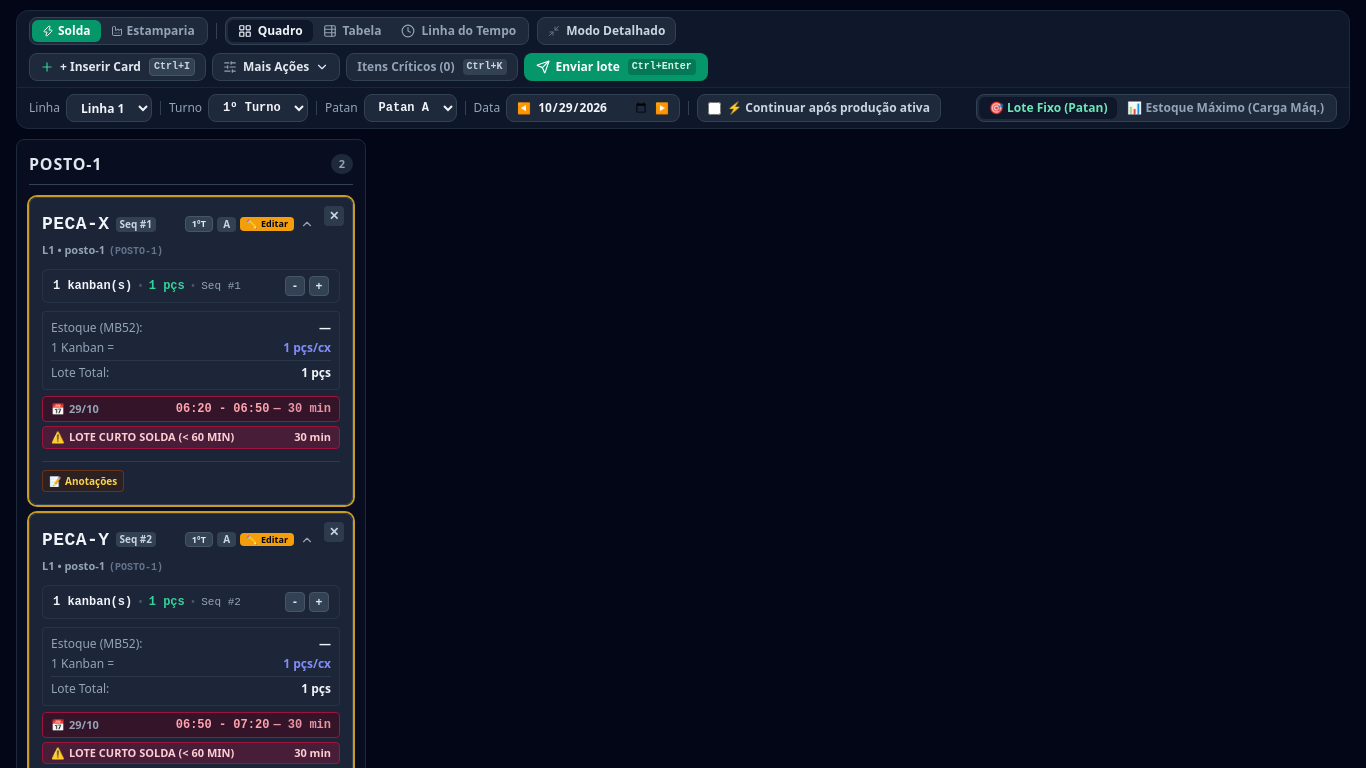
Test: ProgramacaoPatan › allows clicking Montar Padrão to restore removed cards
Expected: the text "PECA-X" is shown, 42,214 -> 110,234
Expected: the text "PECA-Y" is shown, 42,530 -> 110,550
Note: Remove PECA-Y
Click the button with test id "btn-remover-card" at (334, 532), box 324,522 -> 344,542
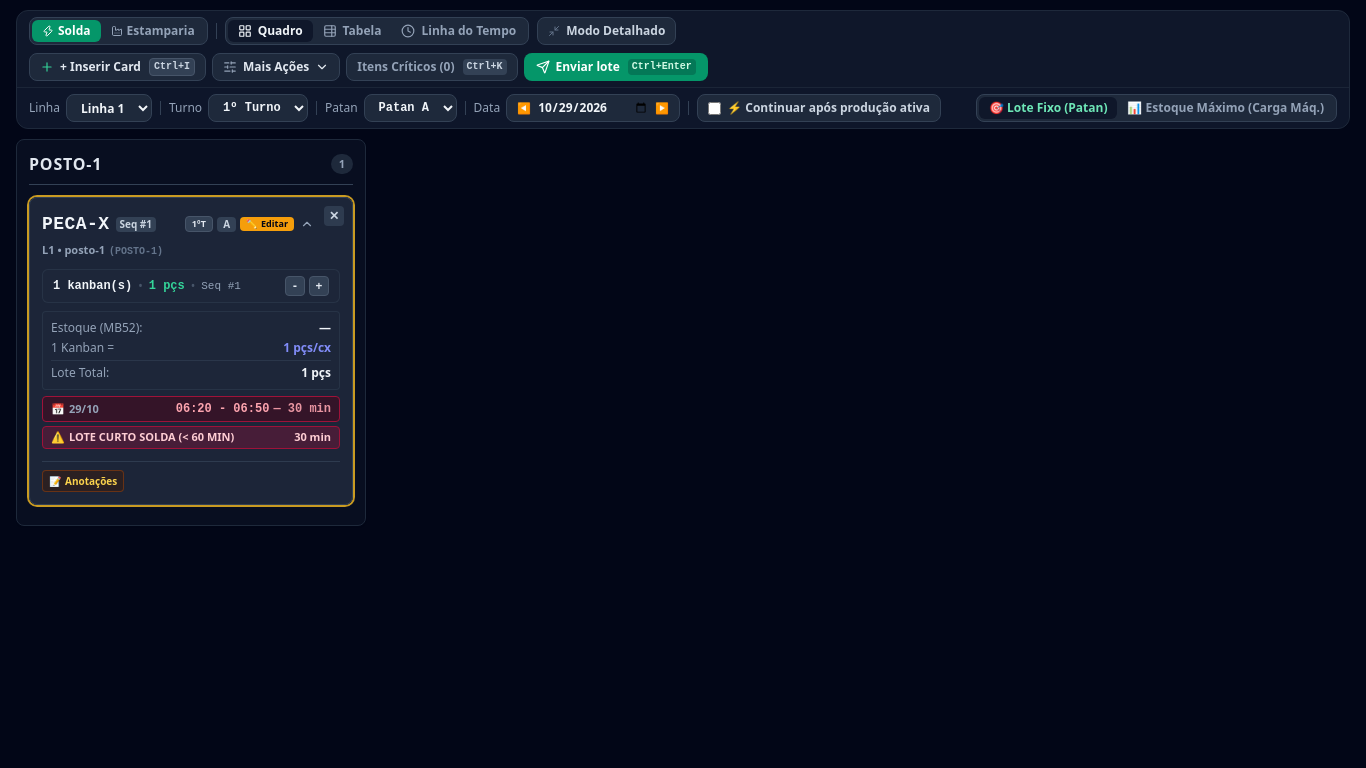
Expected: the button "PECA-Y" is gone
Note: Abre 'Mais Ações' e clica em 'Montar Padrão'
Click the button "Mais Ações" at (276, 67), box 212,53 -> 340,81
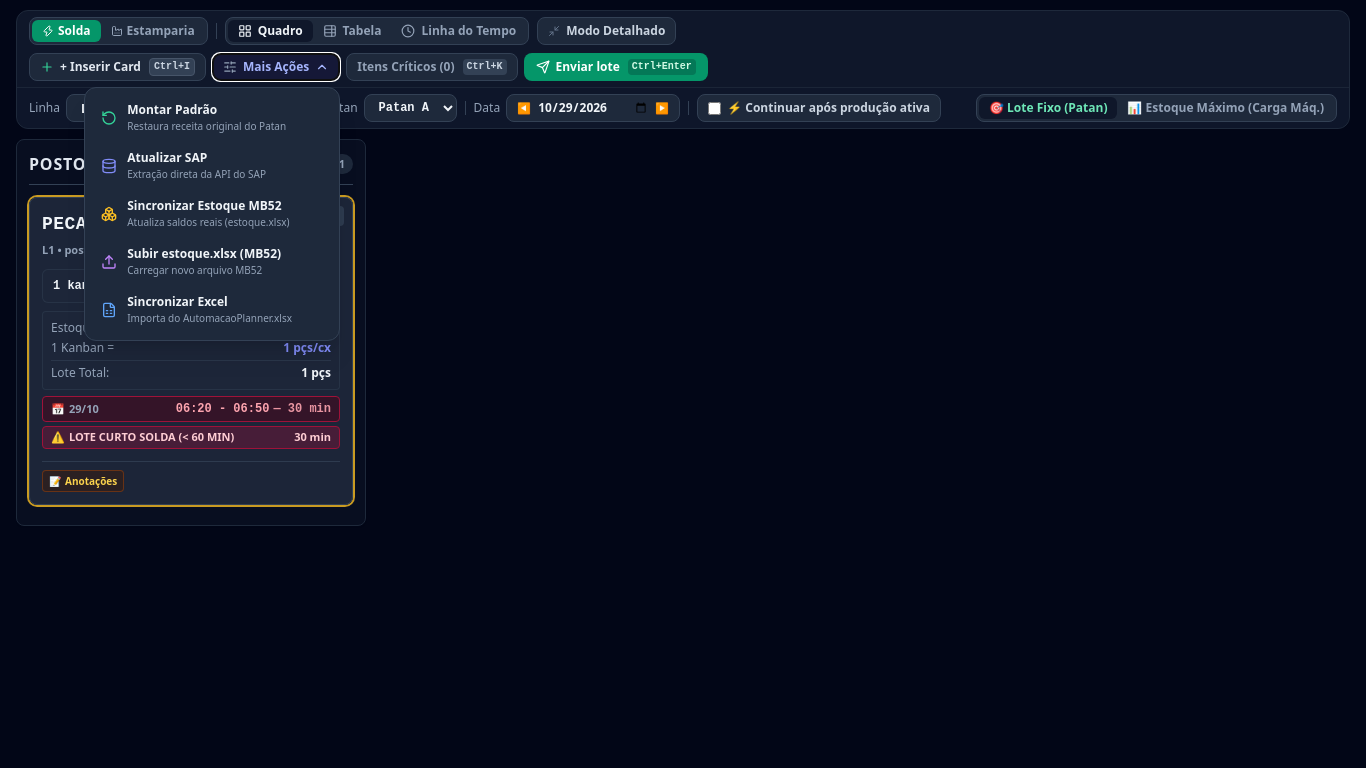
Click the button "Montar Padrão Restaura receita original do Patan" at (212, 118), box 91,94 -> 333,142
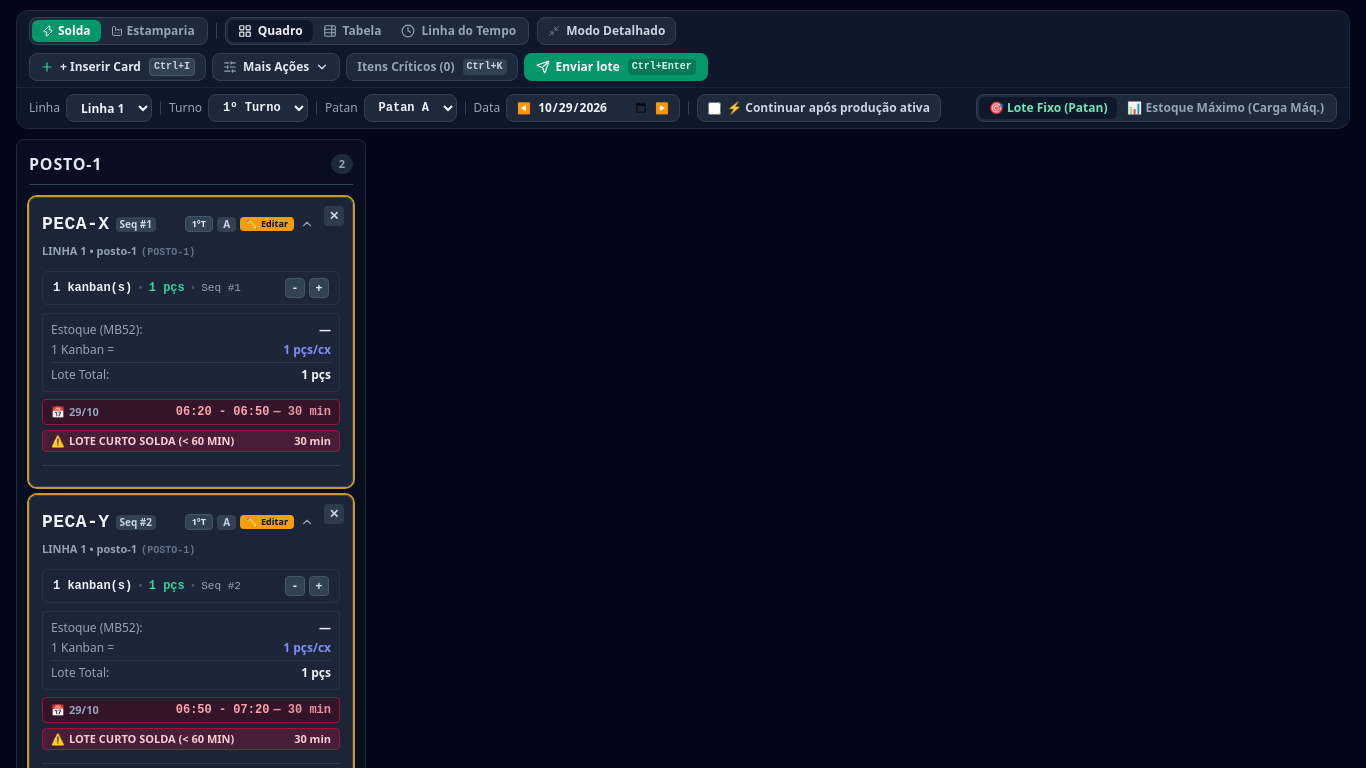
Expected: the text "PECA-Y" is shown, 42,512 -> 110,532
